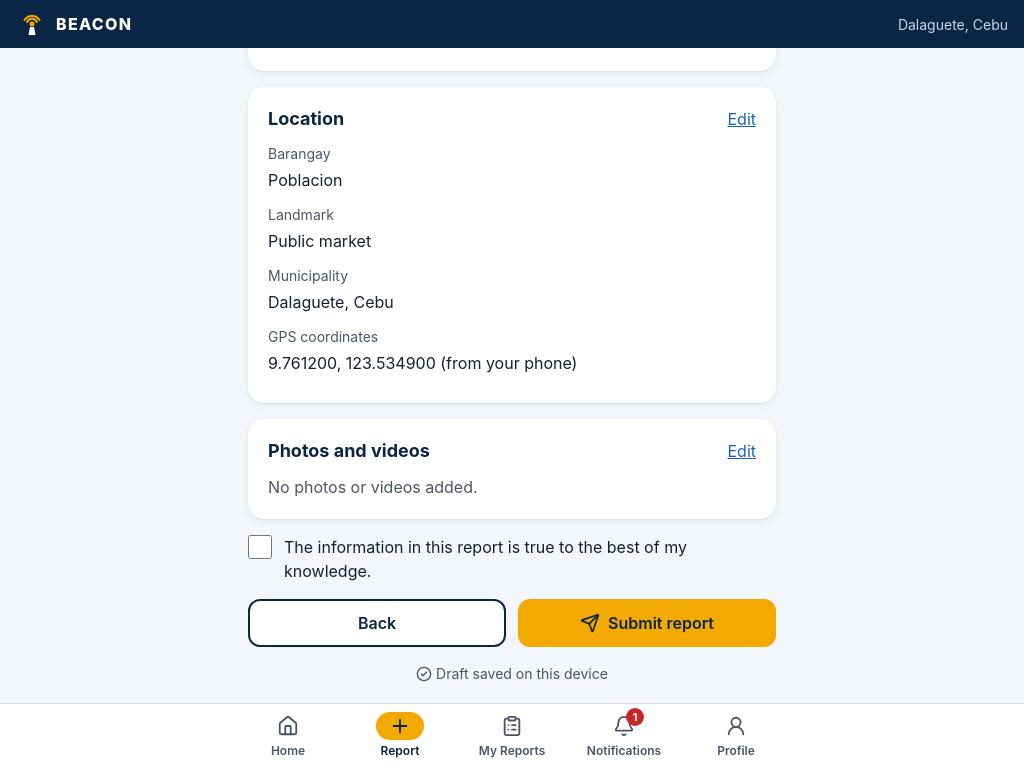
Test case: review and submit › links field problems back to the right step
(page scrolled)
Click the checkbox: click(260, 547) [248, 535, 272, 559]
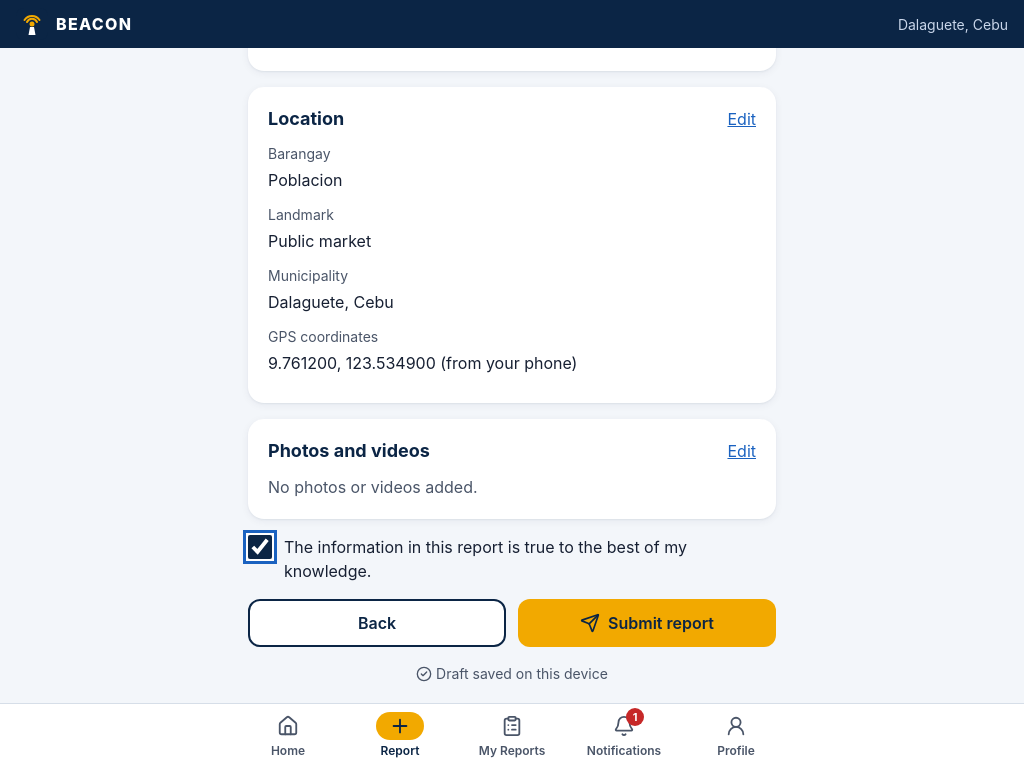
Click the button "Submit report": click(647, 623) [518, 599, 776, 647]
(page scrolled)
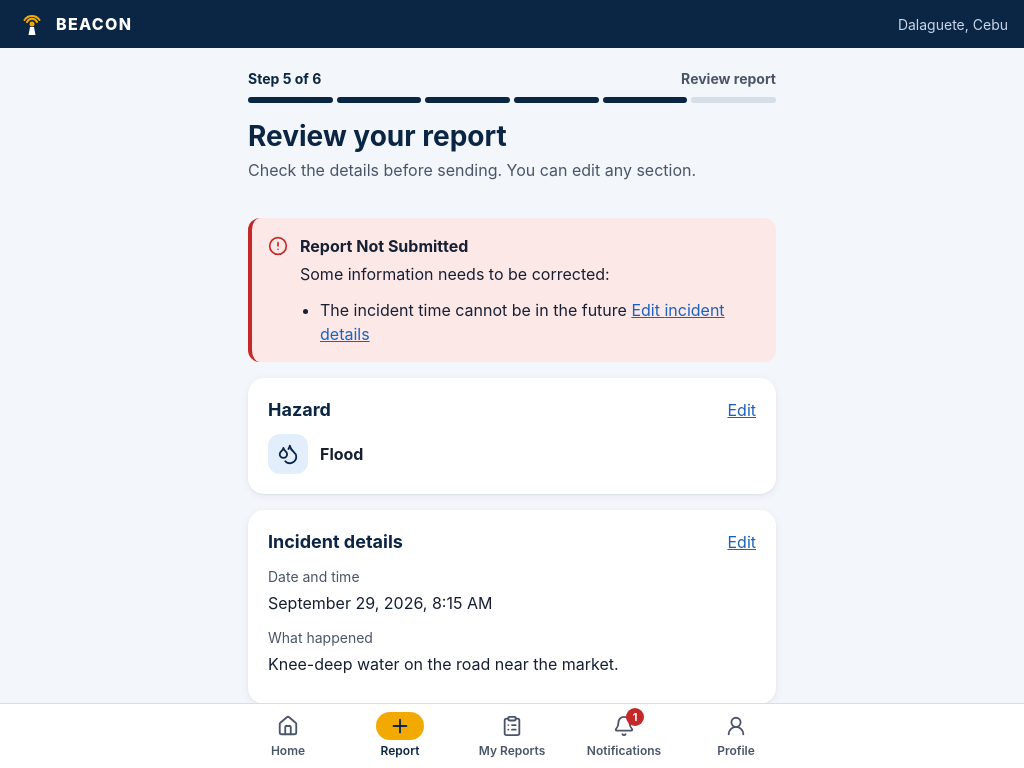
Now the list item "The incident time cannot be in the future" is shown, box [320, 300, 627, 320]
